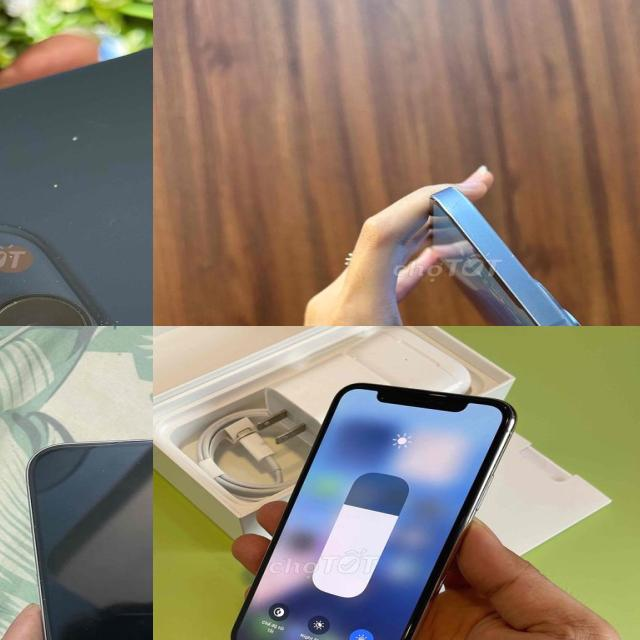scratch: (131, 219, 153, 277), (141, 52, 153, 91), (64, 130, 84, 144), (48, 182, 64, 190)
